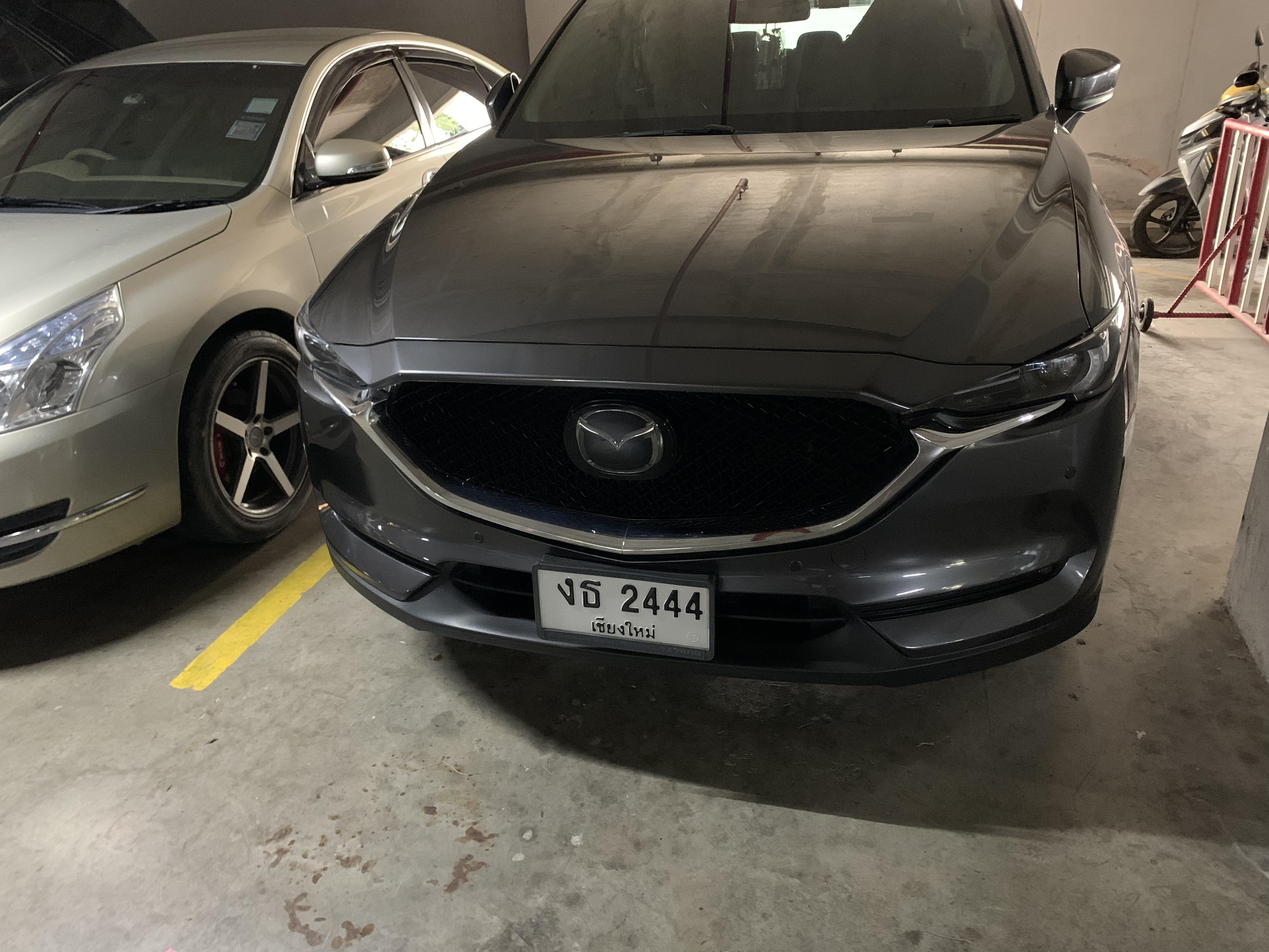license-plate: (531, 559, 717, 664)
